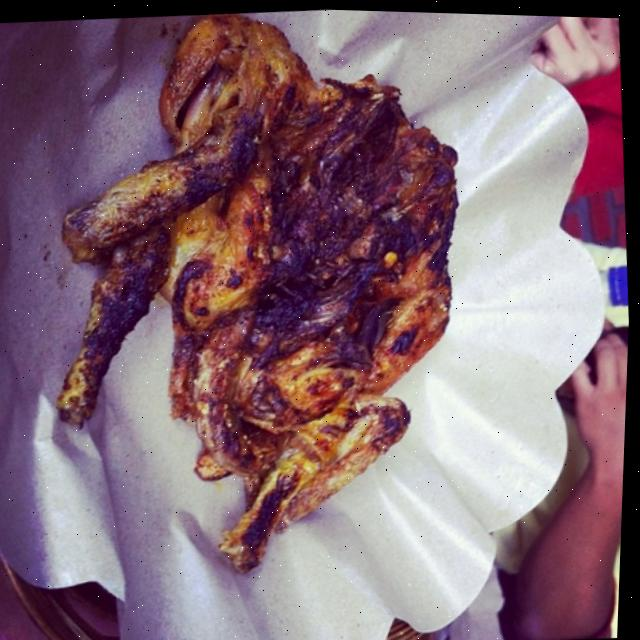鸡肉料理 含炸鸡: (4, 10, 565, 640)
